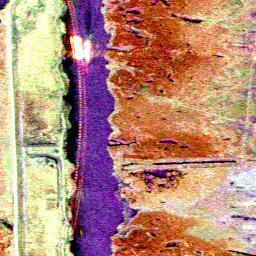Ship: (81, 37, 94, 64), (71, 33, 83, 59)
